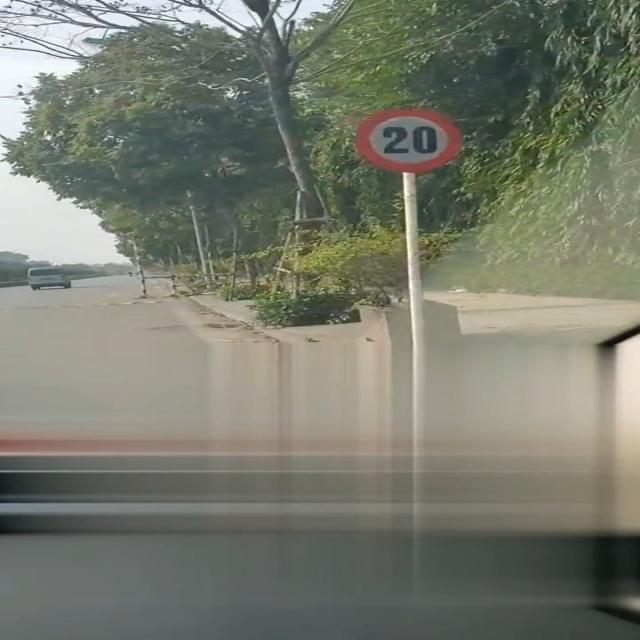127-toc-do-toi-da-20: (356, 108, 464, 172)
